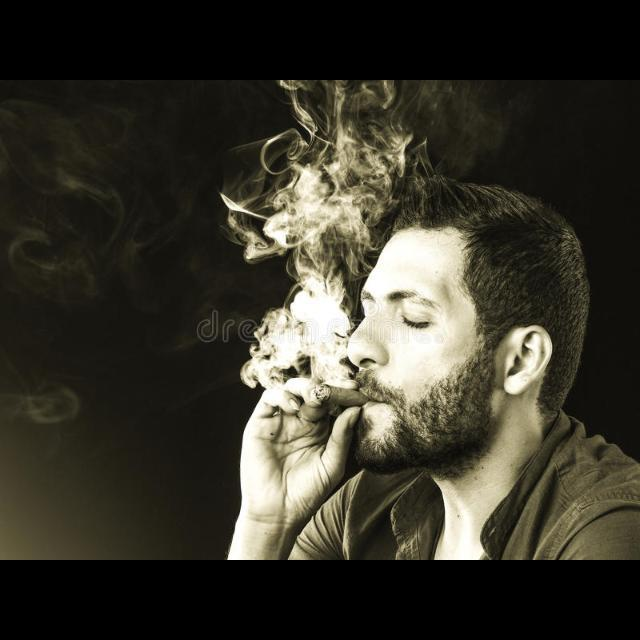rokok: (314, 376, 372, 416)
